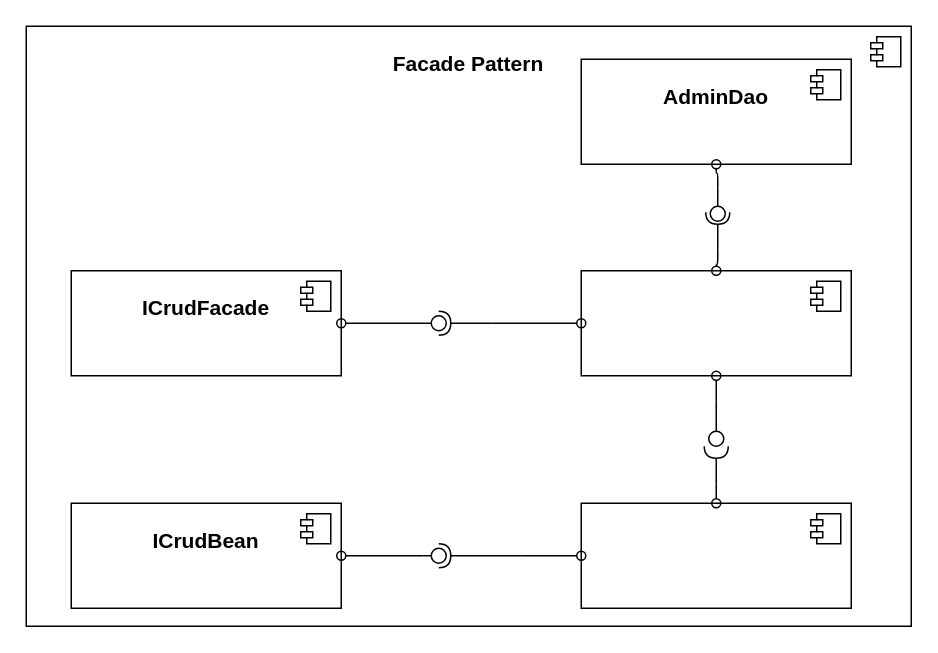
The diagram is 938 pixels wide and 653 high, and some of its shapes have lost their labels. Each missing label, with the centre of its shape:
"AdminBean" belongs at (715,555).
"AdminFacade" belongs at (715,322).
